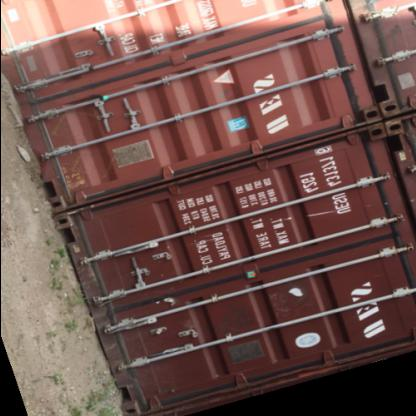Damage: (78, 217, 154, 382), (35, 48, 110, 209)
